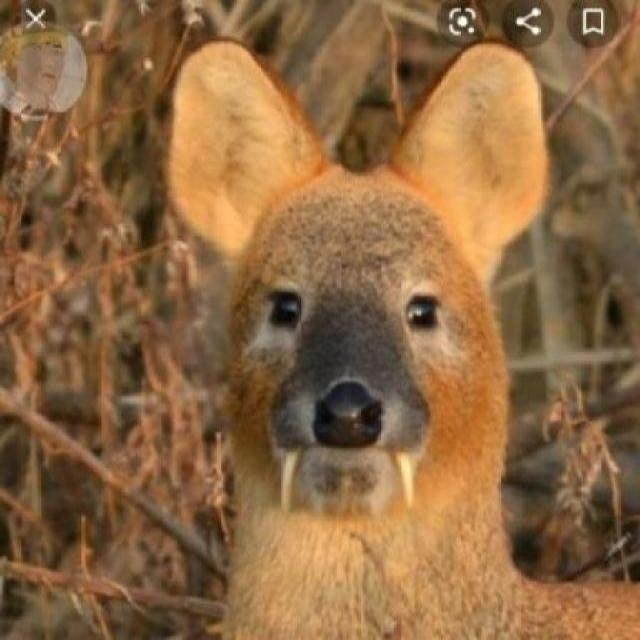deer: (160, 39, 638, 638)
